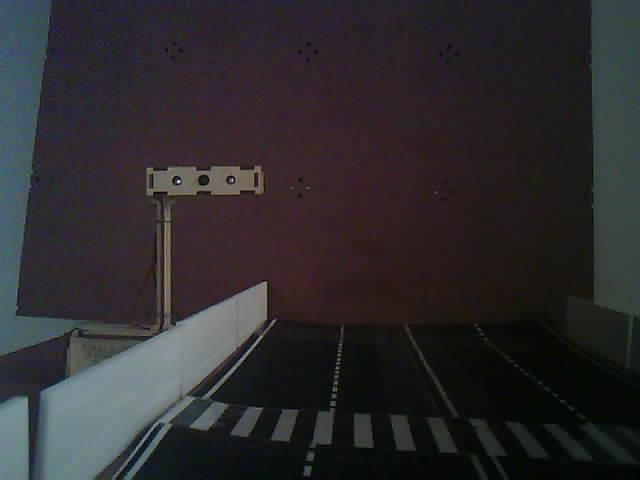crosswalk: (133, 359, 640, 480)
no: (137, 141, 279, 234)
